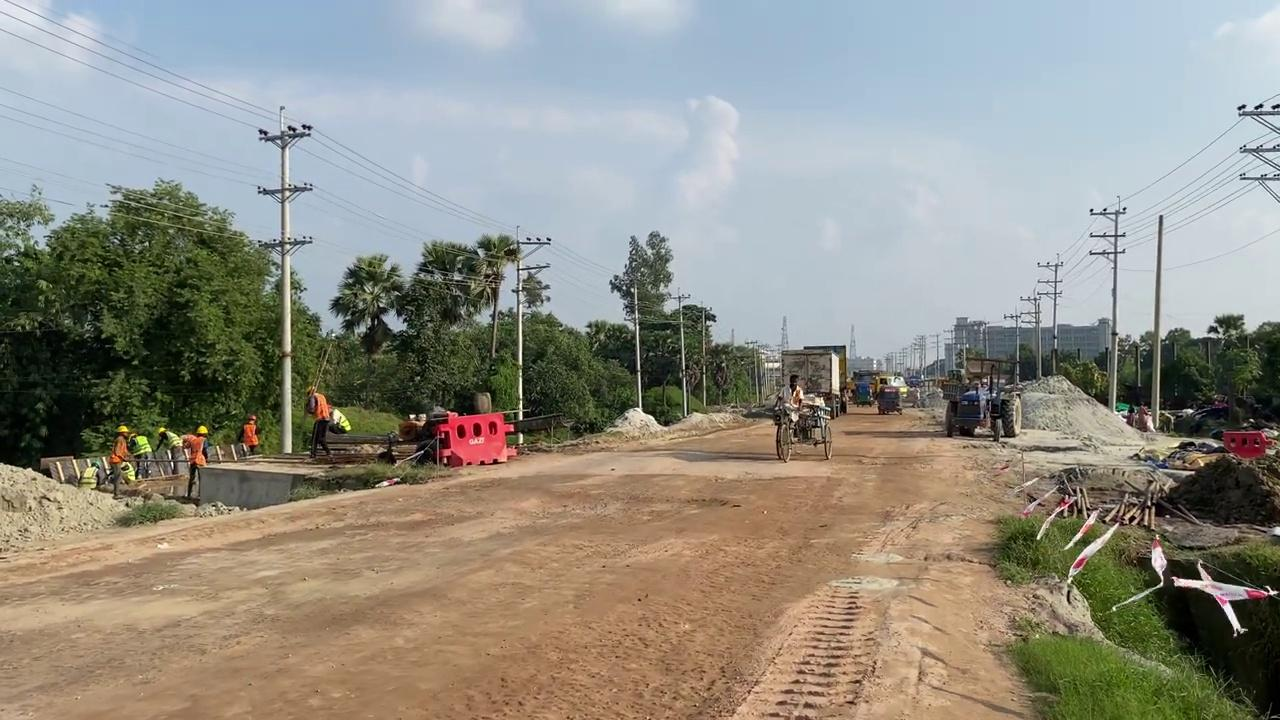Construction-barrier: (432, 409, 517, 466)
Light-pole: (255, 105, 314, 454)
Pole: (1149, 213, 1164, 430), (677, 289, 690, 418)
Railroad-crossing: (771, 391, 834, 462)
Traffic-sign: (1, 175, 319, 464), (608, 229, 674, 412)
Tree: (942, 359, 1021, 441), (871, 371, 907, 415), (850, 369, 874, 406)
